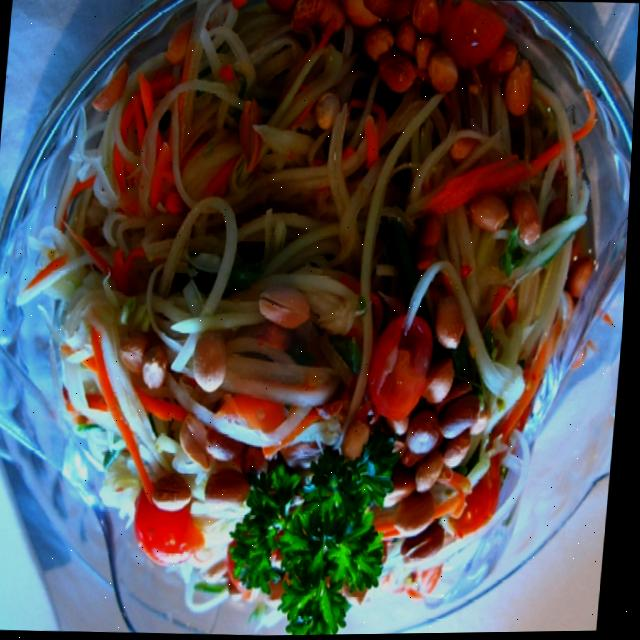蔬菜料理: (17, 3, 636, 633)
